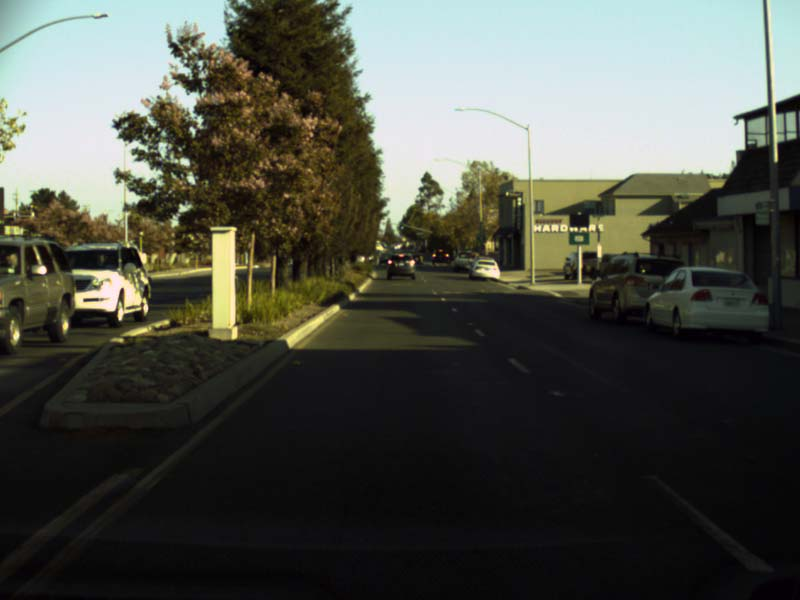Green: (399, 223, 403, 229)
